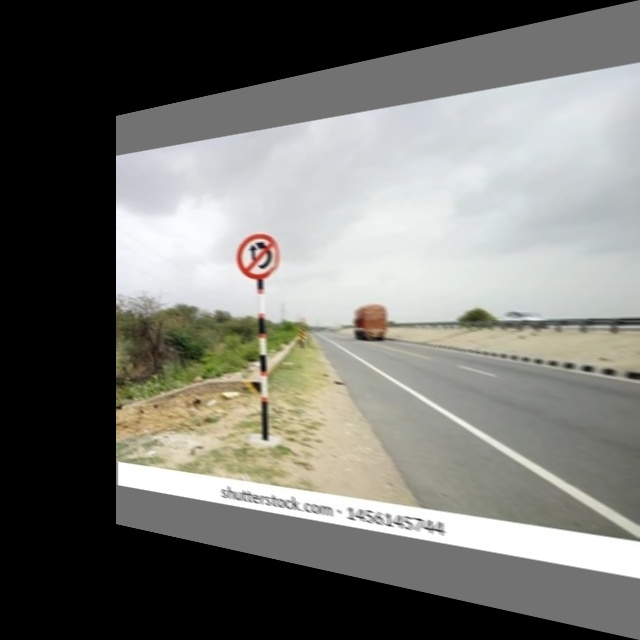Overtaking_Prohibited: (236, 232, 280, 282)
